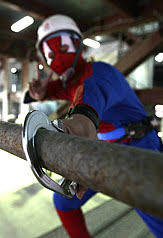helmet: (29, 15, 83, 43)
